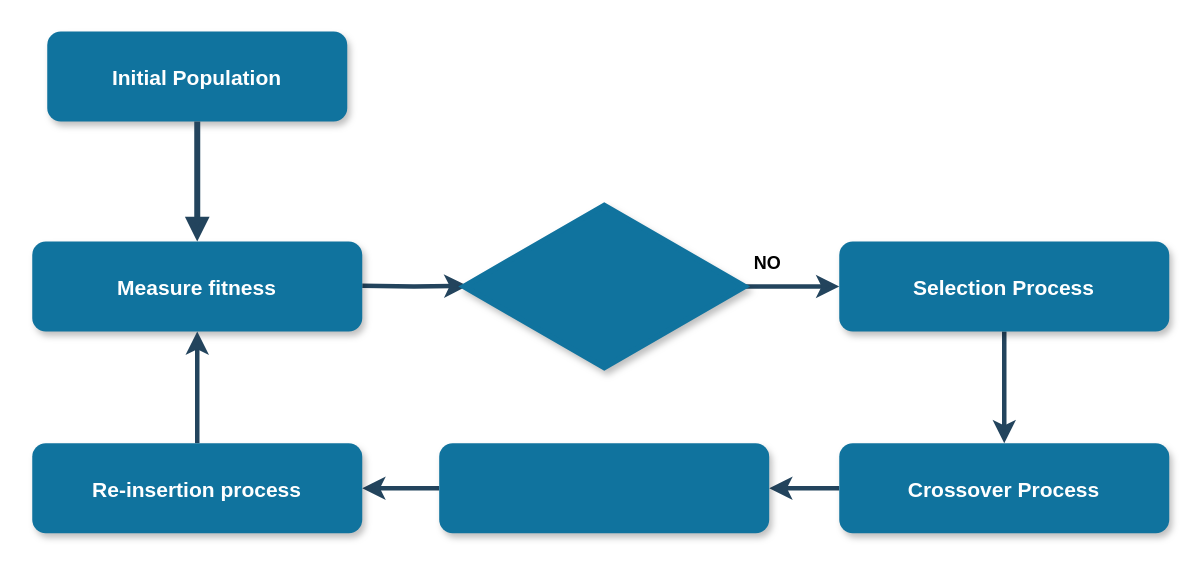
Some shapes in this 1203 by 570 pixel diagram are drawn without their labels. The shapes that lost their labels are listed below. From the top down, each one's centre as x and y in pixels, then its label:
the point at 605,288: Stopping criteria met ?
the point at 604,489: Mutation Process
